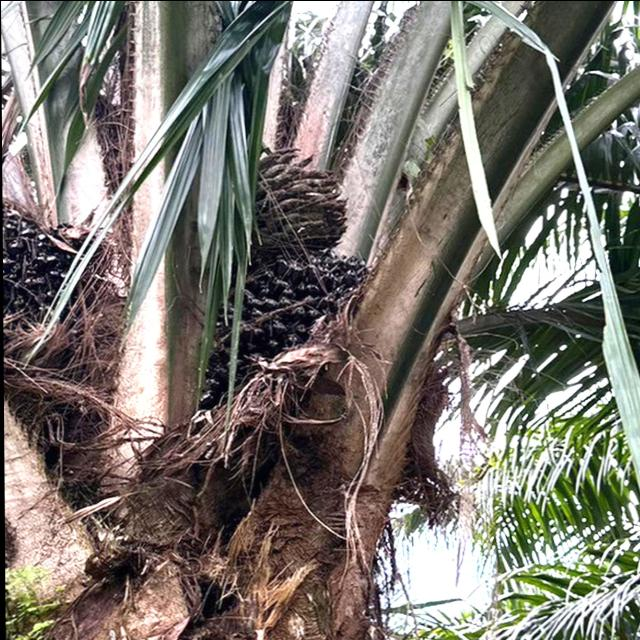unripe: (199, 243, 374, 440), (3, 198, 112, 375)
